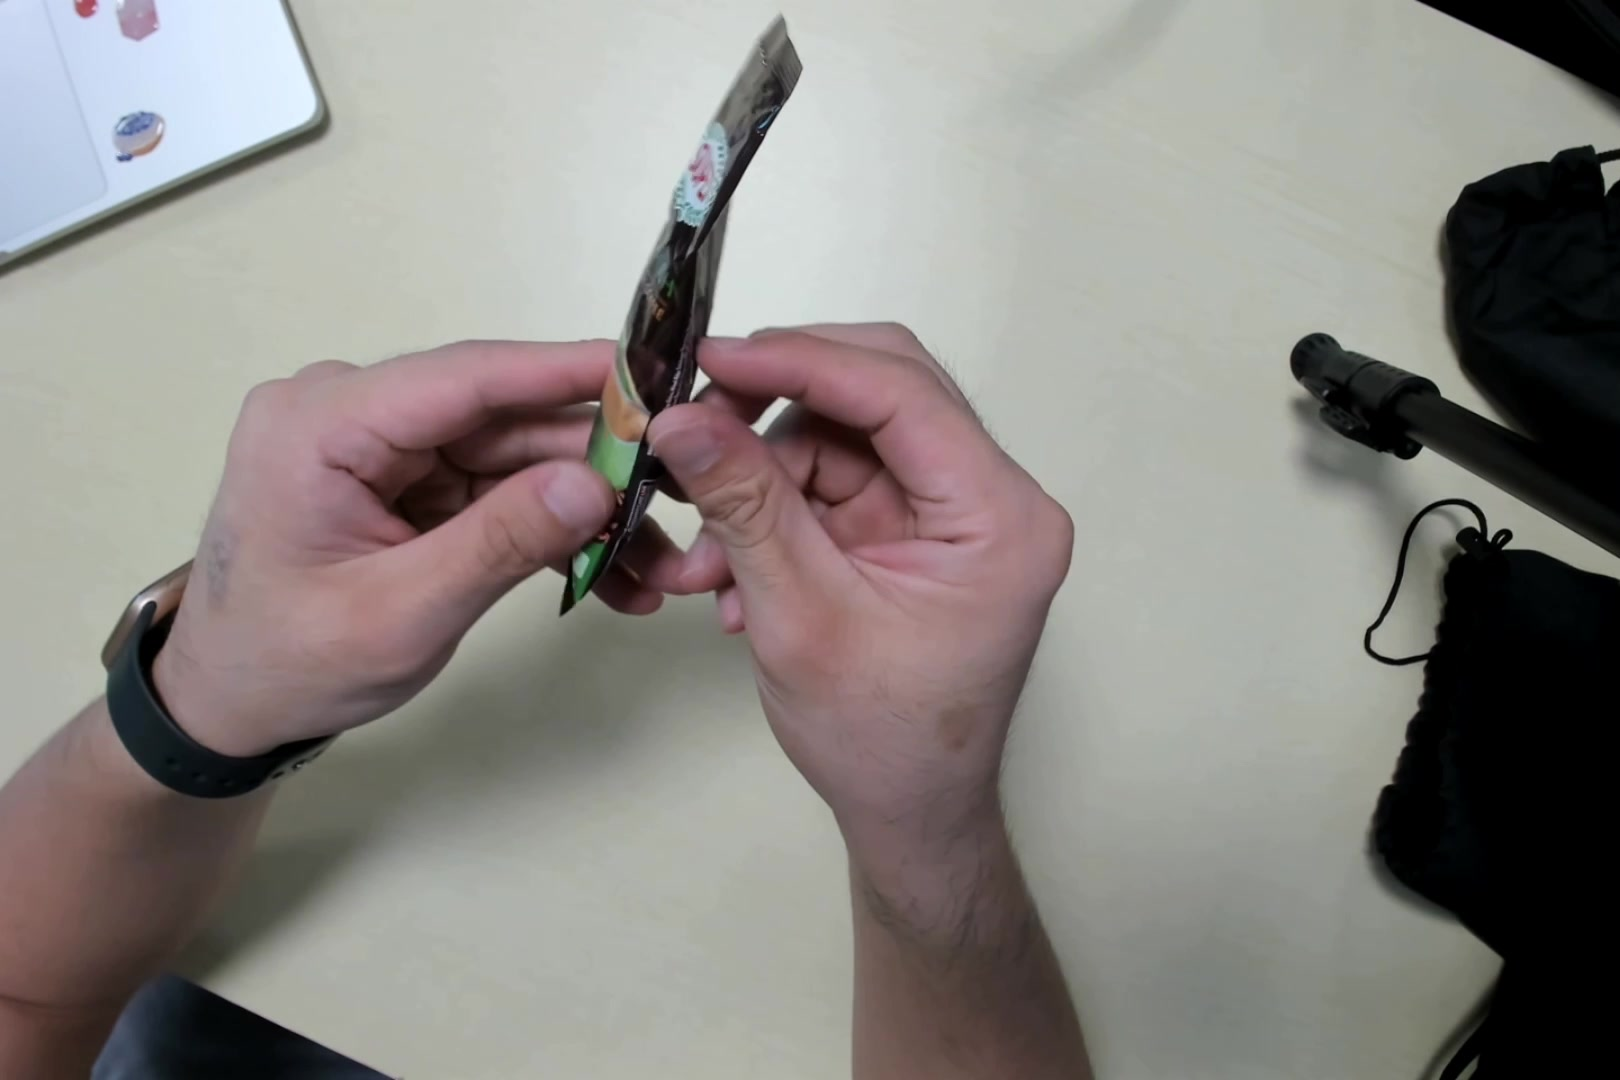Coffee(Powder)_0-99g_Halal_NonHealthy: (558, 31, 809, 617)
